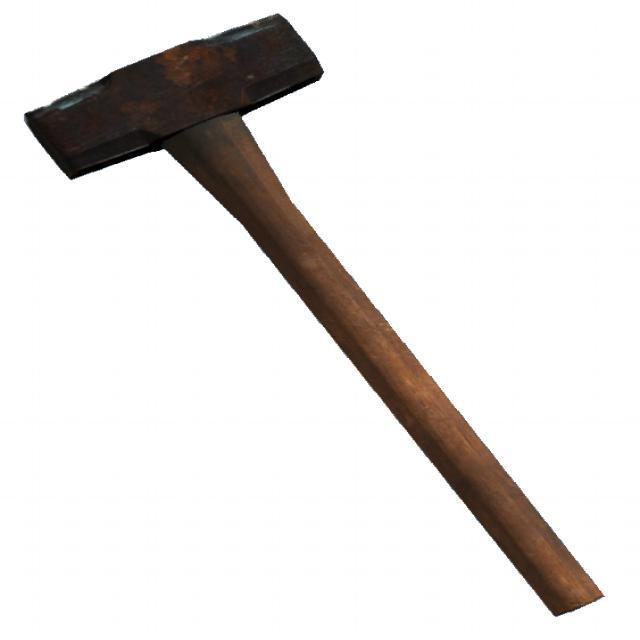hammer: (16, 8, 612, 628)
